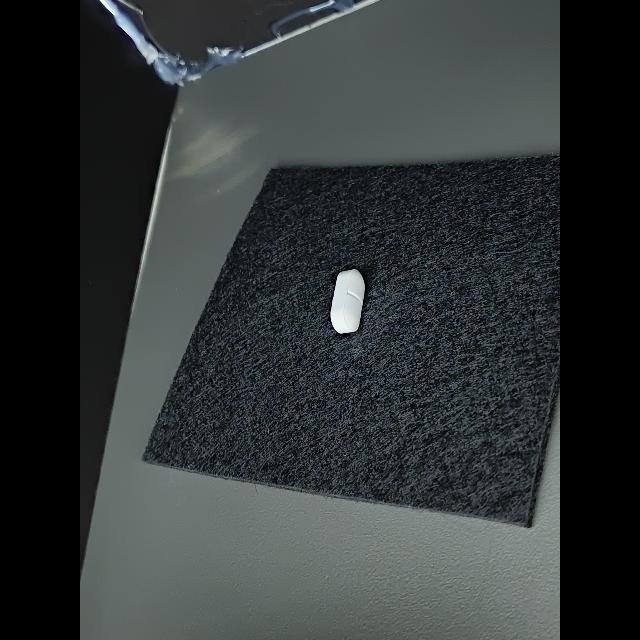Intact Pill: (331, 269, 365, 334)
